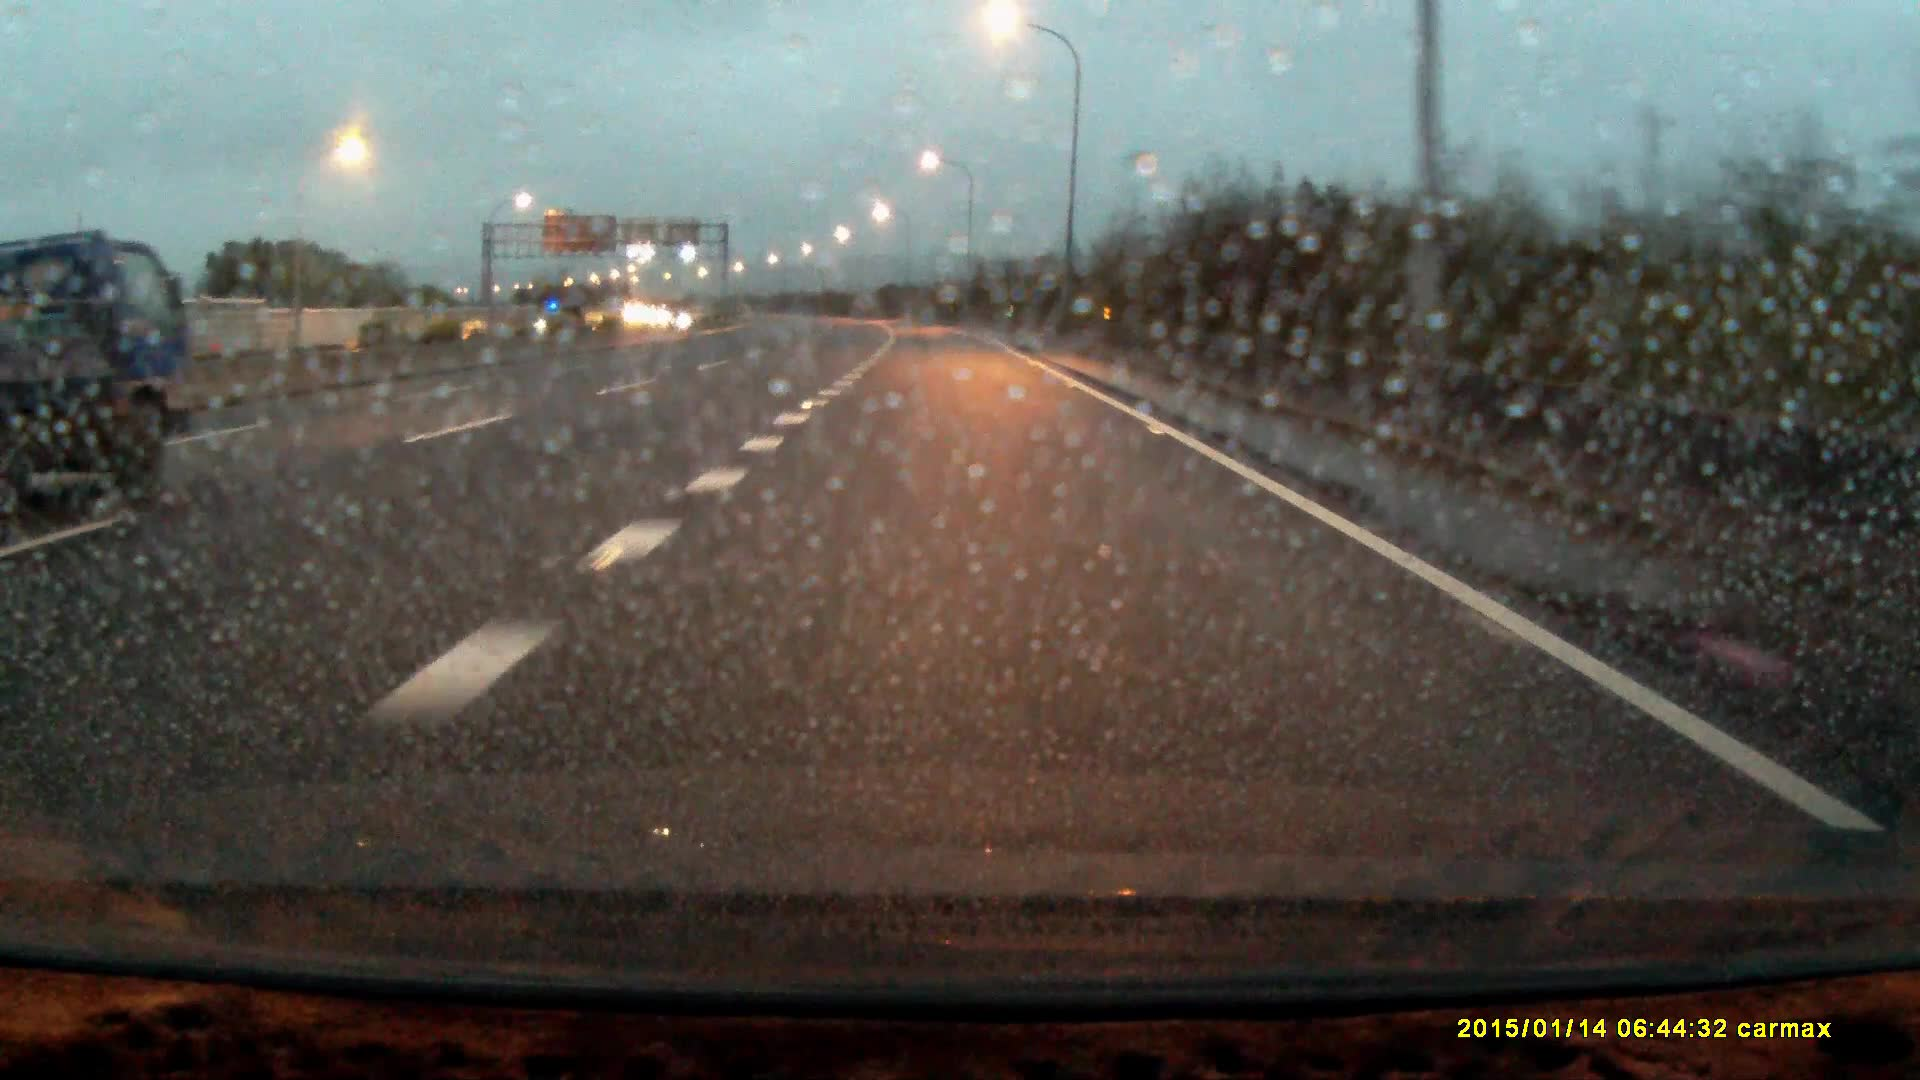vehicle: (1, 219, 237, 525)
